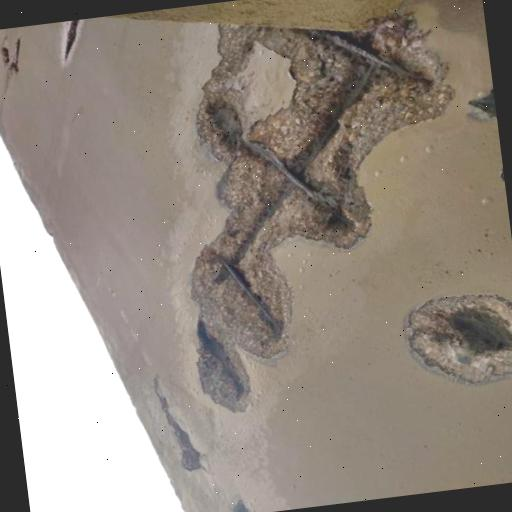spalling: (188, 21, 448, 424), (397, 285, 512, 397)
